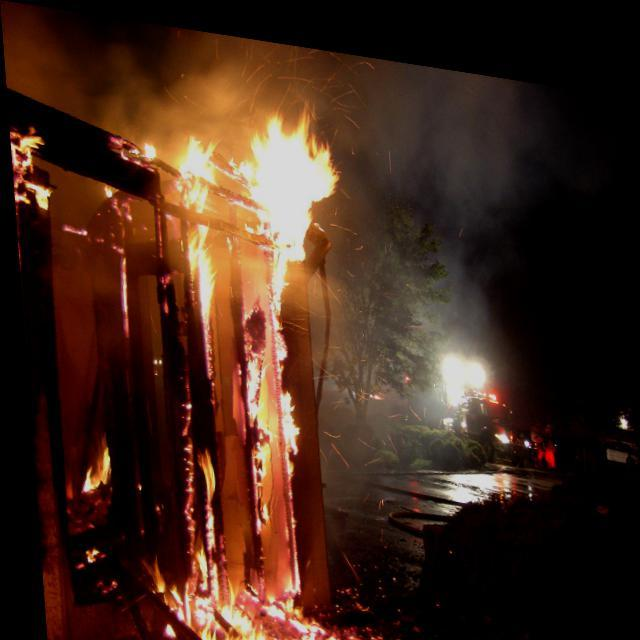Fire: (83, 71, 396, 639), (8, 121, 58, 212)
